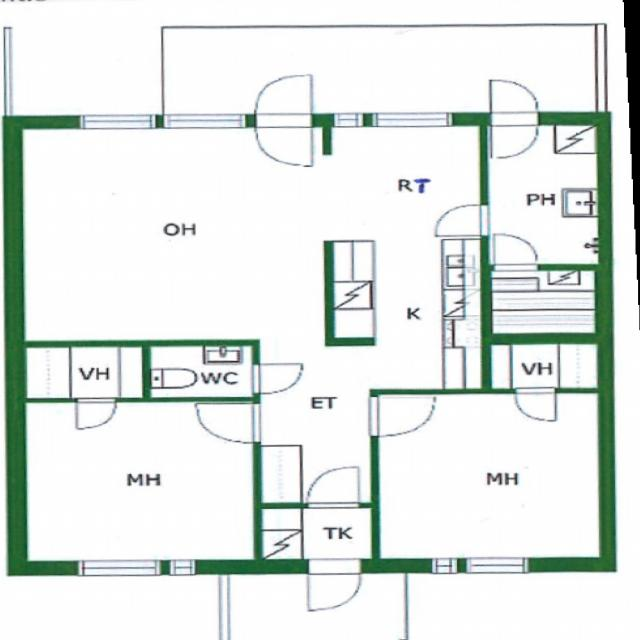door: (254, 70, 313, 124), (254, 110, 313, 164), (308, 559, 361, 612), (370, 397, 434, 436), (307, 465, 361, 508), (492, 78, 540, 124), (492, 111, 540, 157), (202, 405, 262, 441), (492, 233, 536, 270), (436, 204, 488, 235), (254, 363, 304, 392), (75, 396, 114, 428), (515, 388, 554, 420)
